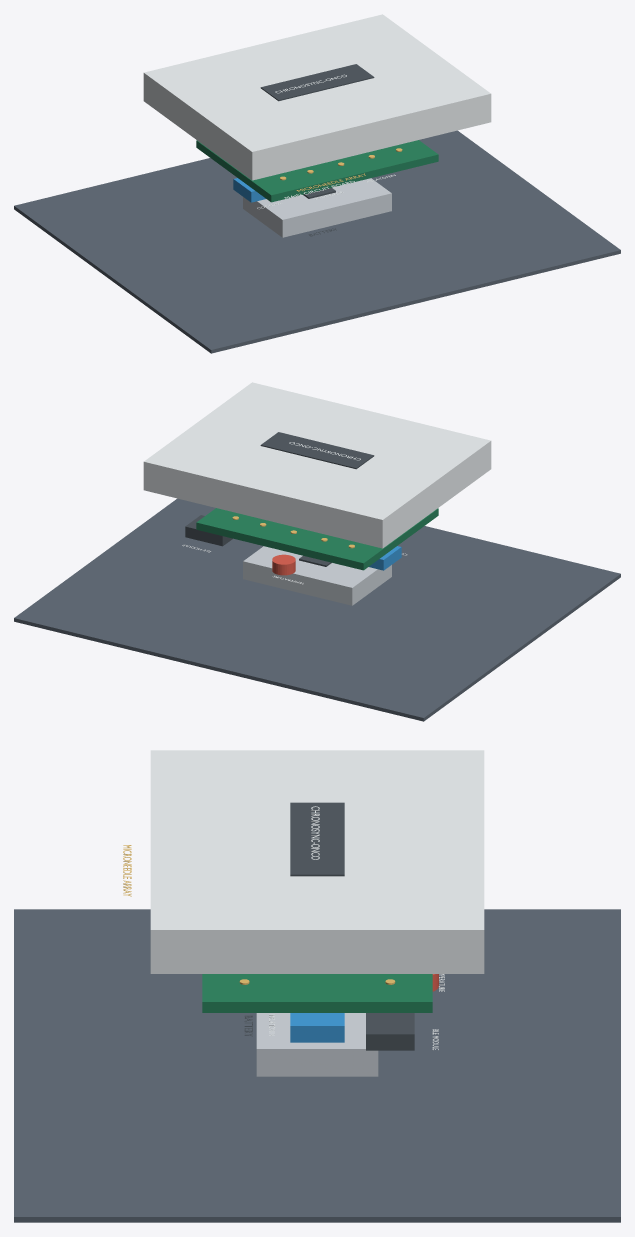
File: ChronoSync_Onco.glb
3 views of the same model, one above another, from view 1: azimuth 30°, elevation 25°; view 2: azimuth 150°, elevation 25°; view 3: azimuth 270°, elevation 25° (orthographic). The views are drawn at different scales.
Parts seen in each view (by area): view 1: Display Platform, 01 | Outer Medical Casing, 02 | Main PCB, 07 | Rechargeable Battery, ChronoSync Logo Plate; view 2: Display Platform, 01 | Outer Medical Casing, 02 | Main PCB, 07 | Rechargeable Battery, ChronoSync Logo Plate, 08 | Bluetooth Low Energy Module; view 3: Display Platform, 01 | Outer Medical Casing, 02 | Main PCB, 07 | Rechargeable Battery, ChronoSync Logo Plate, 08 | Bluetooth Low Energy Module, 05 | Melatonin Aptamer Sensor.
Boxes of the visible parts, x1,y1,x2,y2 form: Display Platform: (14,130,620,353); 01 | Outer Medical Casing: (143,14,491,180); 02 | Main PCB: (196,140,438,202); 07 | Rechargeable Battery: (243,178,391,237); ChronoSync Logo Plate: (260,64,374,101); Display Platform: (14,498,620,721); 01 | Outer Medical Casing: (143,382,491,548); 02 | Main PCB: (196,508,438,570); 07 | Rechargeable Battery: (243,546,391,605); ChronoSync Logo Plate: (260,432,374,469); 08 | Bluetooth Low Energy Module: (185,515,232,546); Display Platform: (14,909,620,1222); 01 | Outer Medical Casing: (150,750,484,973); 02 | Main PCB: (202,974,432,1012); 07 | Rechargeable Battery: (256,1013,378,1076); ChronoSync Logo Plate: (290,802,344,876); 08 | Bluetooth Low Energy Module: (366,1013,414,1050); 05 | Melatonin Aptamer Sensor: (290,1013,344,1042).
Size of the model in its own units: 120 by 41.87 by 100.
